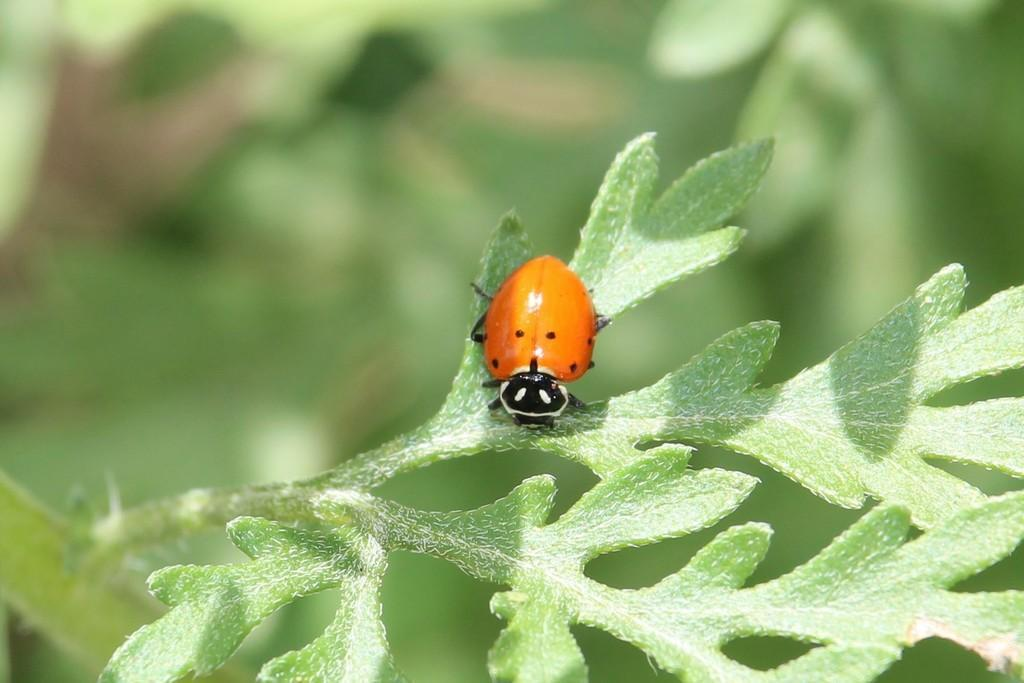ladybug: (467, 251, 613, 435)
